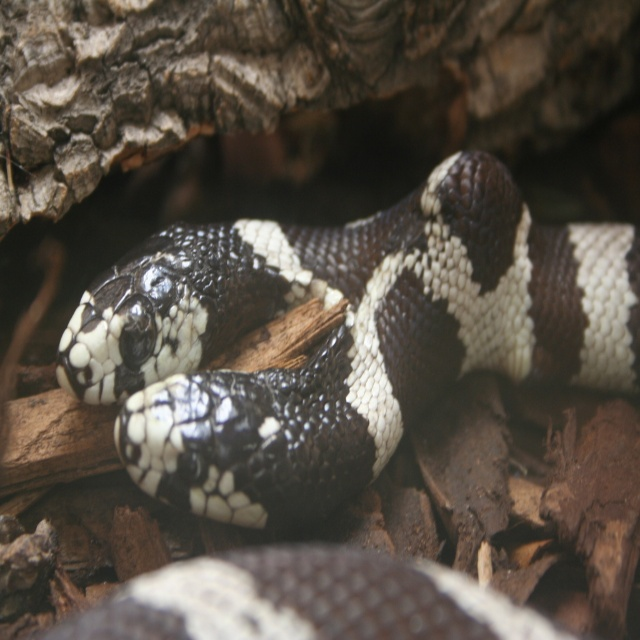Snake: (23, 147, 640, 640)
